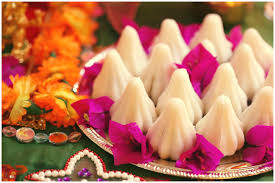modak: (122, 24, 275, 106), (201, 95, 247, 154), (154, 96, 193, 156), (92, 50, 135, 102), (111, 80, 153, 130)
